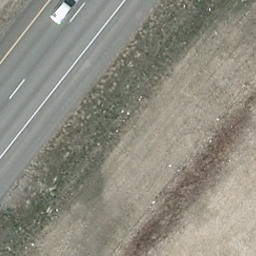car: (49, 0, 82, 26)
